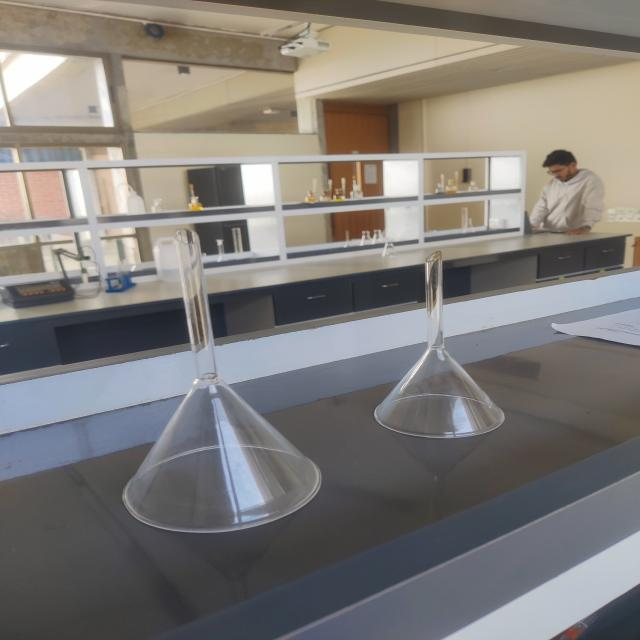Funnel: (103, 213, 341, 569), (367, 218, 519, 472)
